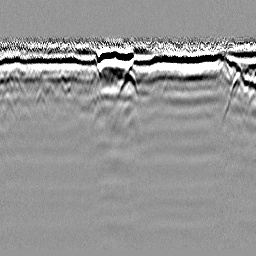cavity: (116, 68, 139, 100)
